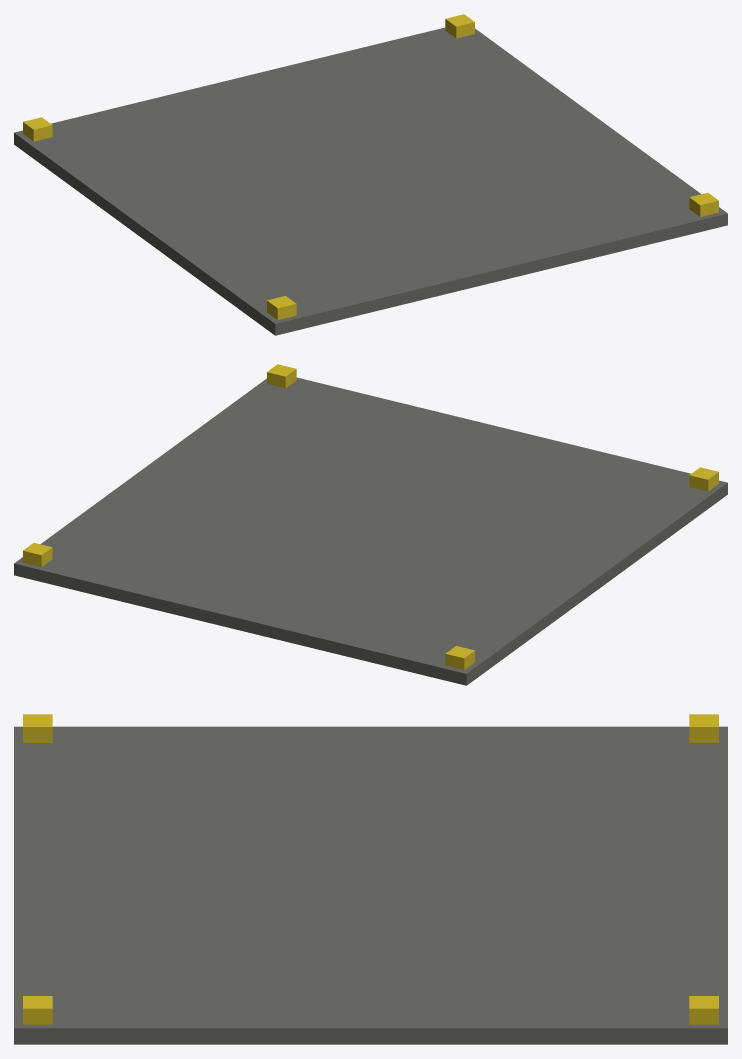
The model's file is pad.obj.
3 renders of one model, top to bottom at view 1: azimuth 30°, elevation 25°; view 2: azimuth 150°, elevation 25°; view 3: azimuth 270°, elevation 25°, orthographic. The views are drawn at different scales.
Bounding box in the file's own units: 12 × 0.6 × 12.
